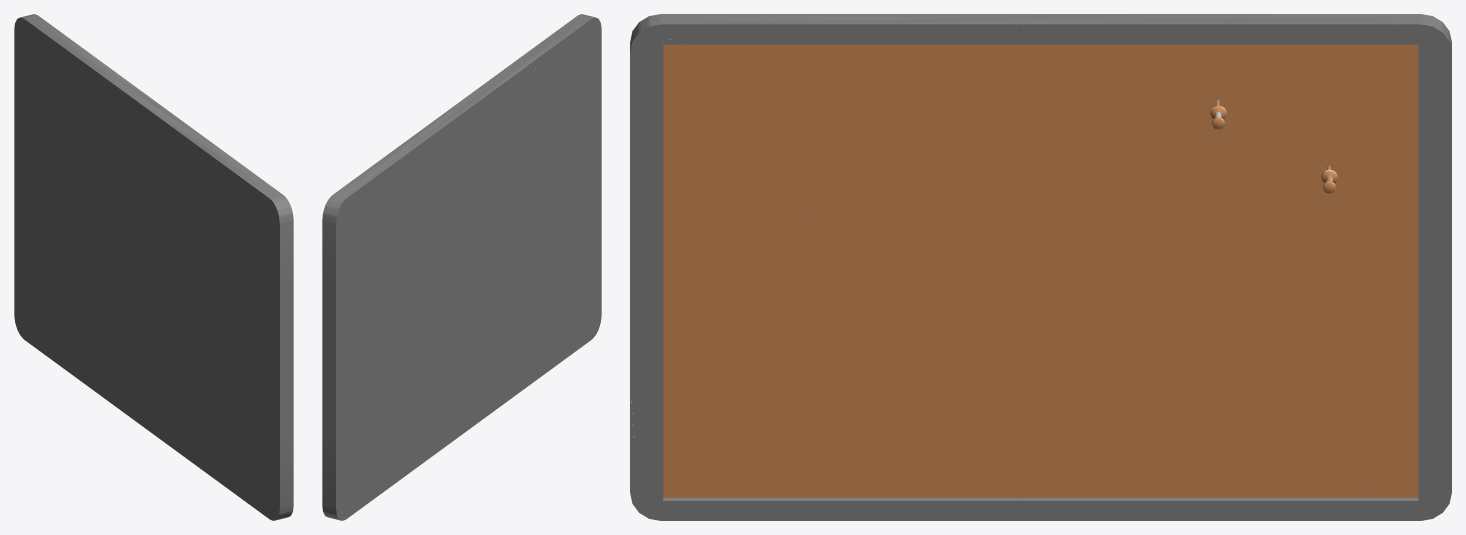
File: noticeboard1.fbx
The picture shows the model from 3 angles, left to right: view 1: azimuth 30°, elevation 25°; view 2: azimuth 150°, elevation 25°; view 3: azimuth 270°, elevation 25°; orthographic projection. The views are drawn at different scales.
Visible parts, largest first — view 1: metalboard; view 2: metalboard; view 3: material, metalboard.
Boxes of the visible parts, <box> form: metalboard: <box>14,14,293,520</box>; metalboard: <box>322,14,601,520</box>; material: <box>663,44,1418,497</box>; metalboard: <box>630,14,1451,520</box>.
Bounding box in the file's own units: 725 × 6000 × 9000.
Materials: 4 (4 with a texture image).
